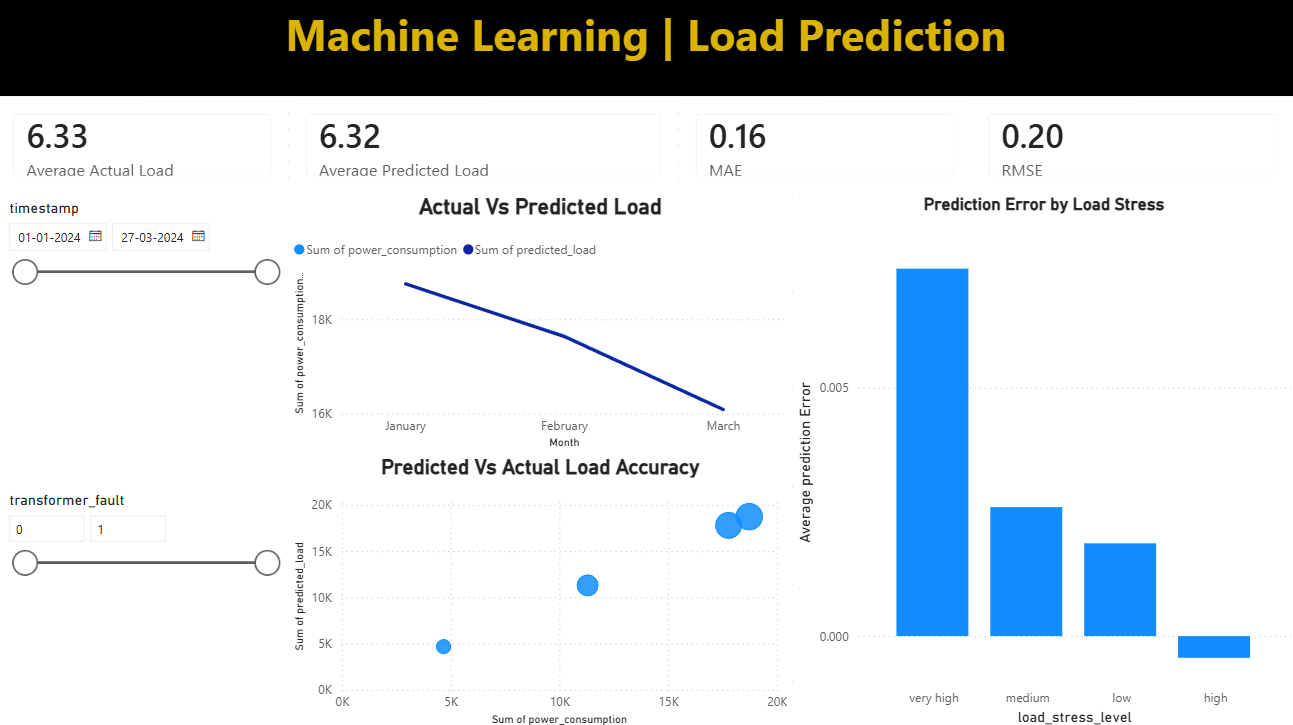

The dashboard page shown, as its layout file describes it:
{"tool":"powerbi","page":{"name":"Page 1","canvas":[1280,720],"ordinal":4},"visuals":[{"type":"textbox","box":[0,0,1280,96],"z":0},{"type":"cardVisual","fields":{"Data":["energy_data.Average Actual Load"]},"box":[0,96,288,96],"z":1},{"type":"cardVisual","fields":{"Data":["energy_data.Average Predicted Load"]},"box":[288,96,384,96],"z":2},{"type":"cardVisual","fields":{"Data":["energy_data.MAE"]},"box":[672,96,288,96],"z":3},{"type":"cardVisual","fields":{"Data":["energy_data.RMSE"]},"box":[960,96,320,96],"z":4},{"type":"slicer","fields":{"Values":["energy_data.timestamp"]},"box":[0,192,288,288],"z":5},{"type":"slicer","fields":{"Values":["energy_data.transformer_fault"]},"box":[0,480,288,240],"z":6},{"type":"lineChart","title":"Actual Vs Predicted Load","fields":{"Category":["energy_data.timestamp.Variation.Date Hierarchy.Month"],"Y":["Sum(energy_data.power_consumption)","Sum(energy_data.predicted_load)"]},"box":[288,192,496,256],"z":7},{"type":"scatterChart","title":"Predicted Vs Actual Load Accuracy","fields":{"X":["Sum(energy_data.power_consumption)"],"Y":["Sum(energy_data.predicted_load)"],"Size":["Sum(energy_data.load_stress)"],"Category":["energy_data.load_stress_level"]},"box":[288,448,496,272],"z":8},{"type":"clusteredColumnChart","title":"Prediction Error by Load Stress","fields":{"Category":["energy_data.load_stress_level"],"Y":["energy_data.Average prediction Error"]},"box":[784,192,496,528],"z":9}]}

Visuals, with their boxes in screenshot pixels (x1, y1, x2, y2), scaled from the page's 1280x720 canvas onto the 1293x725 screenshot:
textbox: crop(0, 0, 1292, 97)
cardVisual - energy_data.Average Actual Load: crop(0, 97, 291, 193)
cardVisual - energy_data.Average Predicted Load: crop(291, 97, 679, 193)
cardVisual - energy_data.MAE: crop(679, 97, 970, 193)
cardVisual - energy_data.RMSE: crop(970, 97, 1292, 193)
slicer - energy_data.timestamp: crop(0, 193, 291, 483)
slicer - energy_data.transformer_fault: crop(0, 483, 291, 724)
"Actual Vs Predicted Load" lineChart: crop(291, 193, 792, 451)
"Predicted Vs Actual Load Accuracy" scatterChart: crop(291, 451, 792, 724)
"Prediction Error by Load Stress" clusteredColumnChart: crop(792, 193, 1292, 724)
